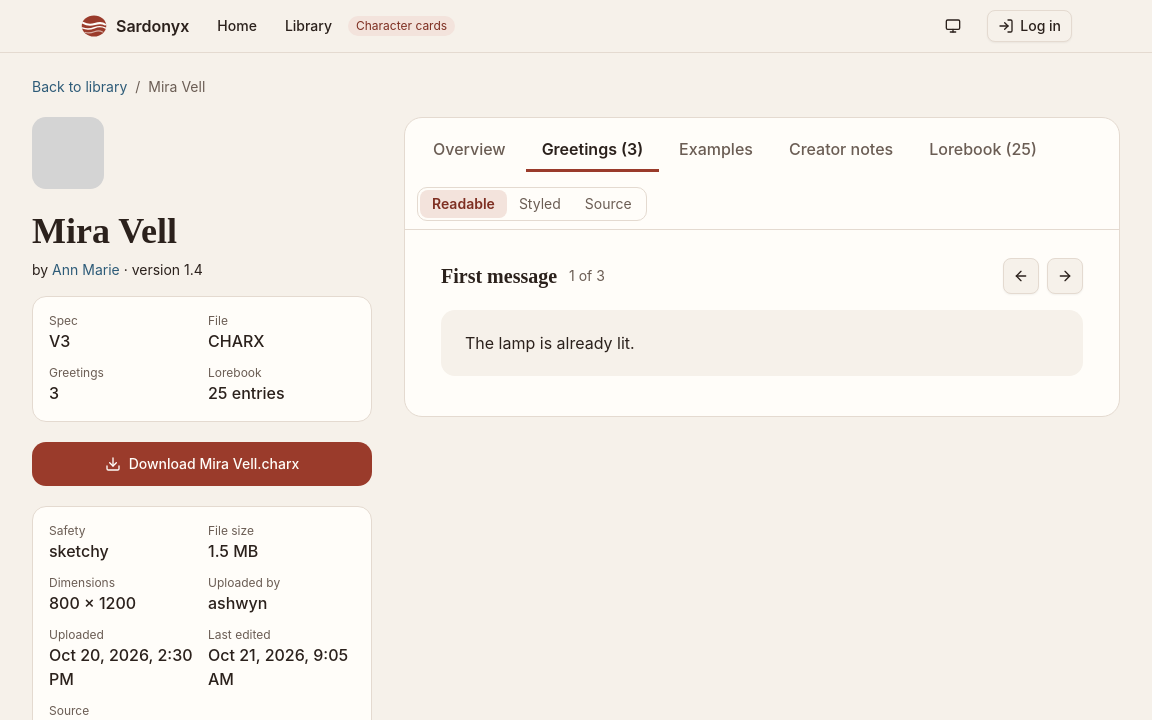
Test case: the card viewer › switches greetings, round from the last to the first
The image size is (1152, 720).
Check: the panel shows "First message", box left=441, top=265, right=557, bottom=287
Check: the panel shows "1 of 3", box left=441, top=258, right=1083, bottom=376
Click the button named "Next greeting".
click(1065, 276)  # box left=1047, top=258, right=1083, bottom=294
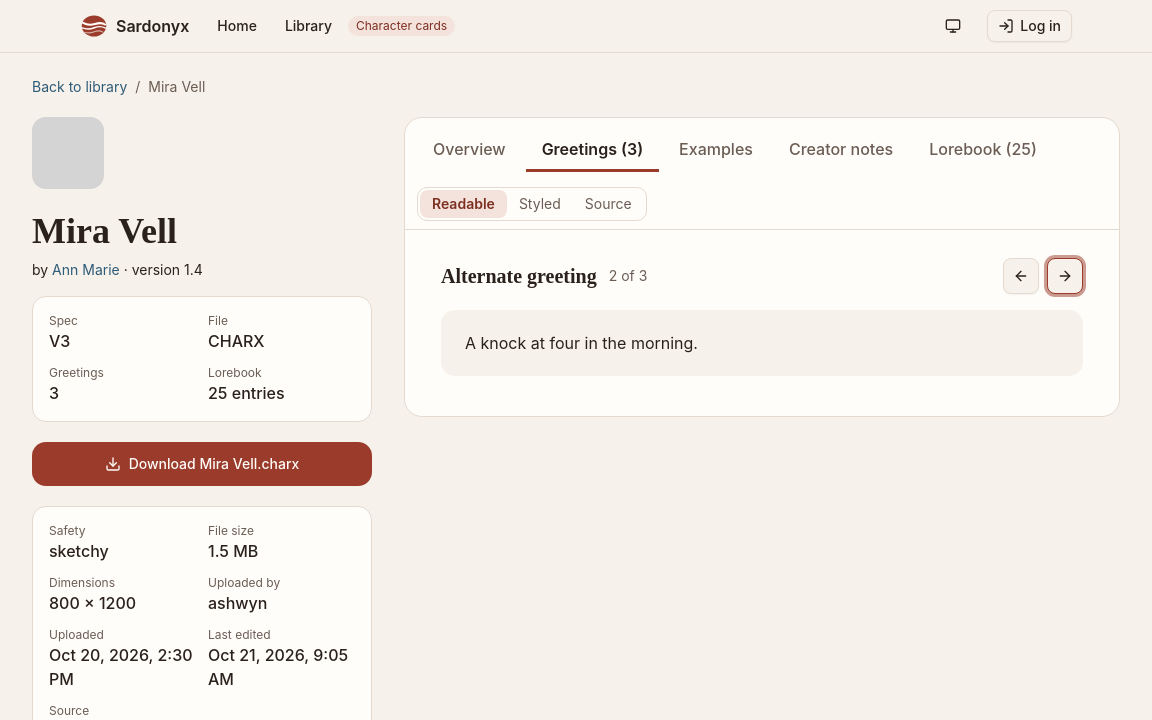
Check: the panel shows "Alternate greeting", box left=441, top=265, right=597, bottom=287
Check: the panel shows "2 of 3", box left=441, top=258, right=1083, bottom=376
Check: the panel shows "A knock at four in the morning.", box left=465, top=333, right=698, bottom=353
Click the button named "Previous greeting".
click(1021, 276)  # box left=1003, top=258, right=1039, bottom=294
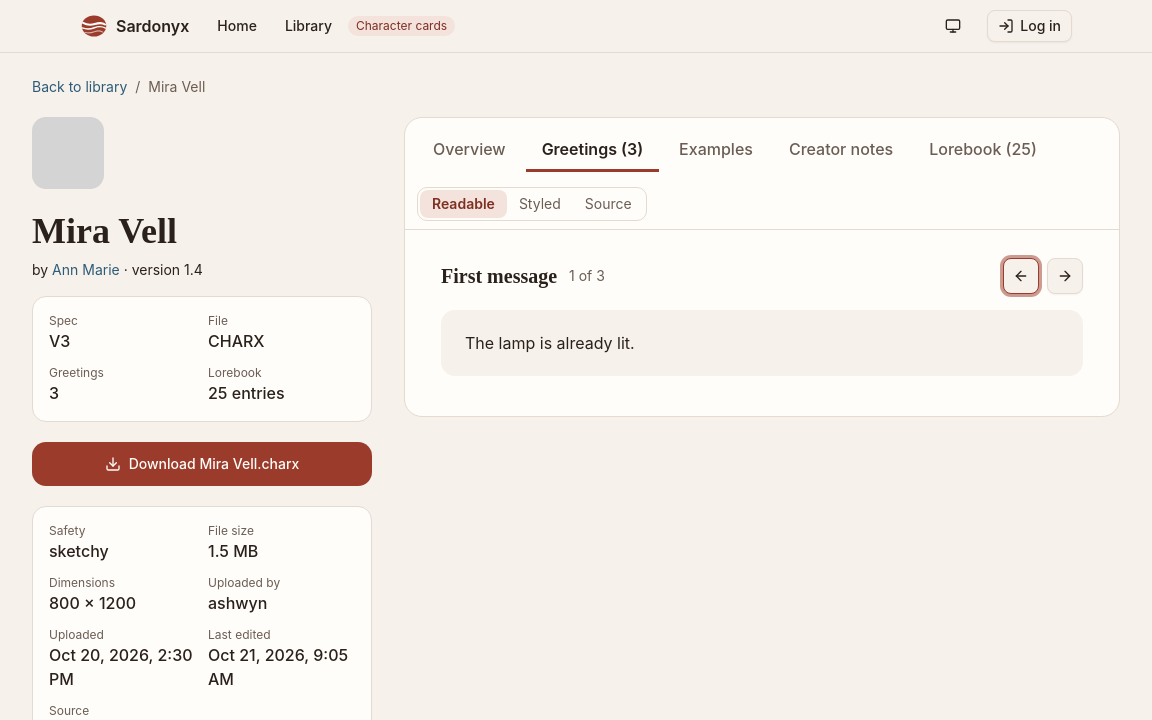
Click the button named "Previous greeting".
click(1021, 276)  # box left=1003, top=258, right=1039, bottom=294
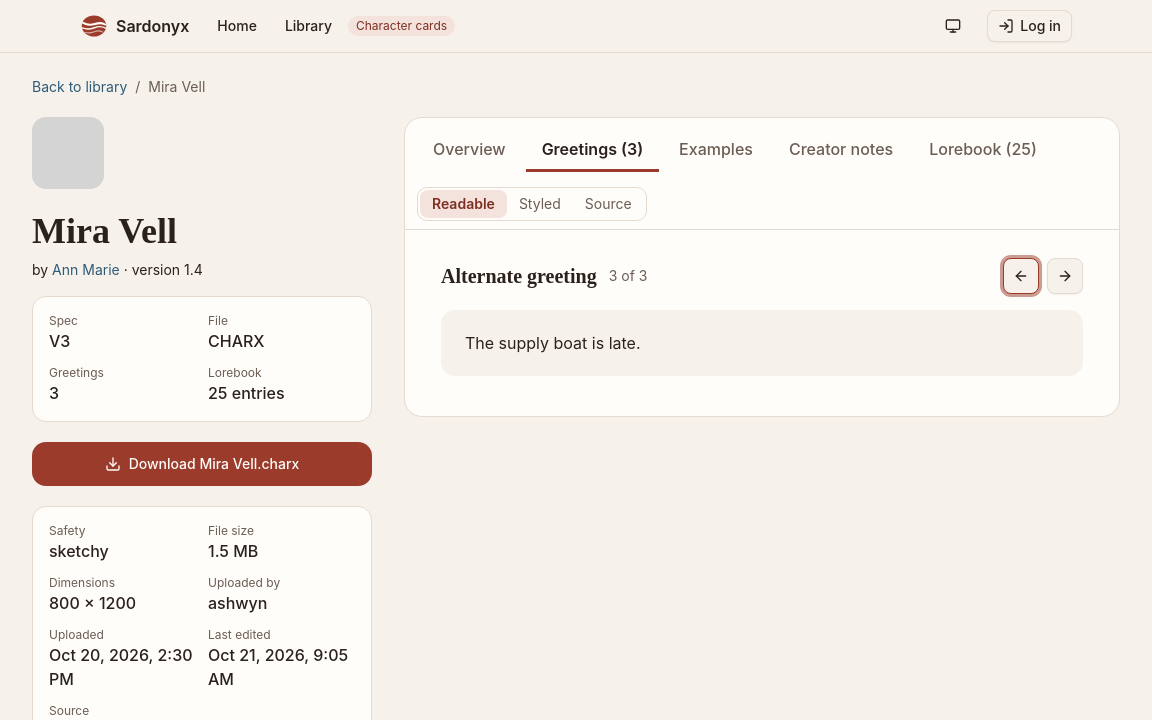
Check: the panel shows "3 of 3", box left=441, top=258, right=1083, bottom=376
Check: the panel shows "The supply boat is late.", box left=465, top=333, right=640, bottom=353
